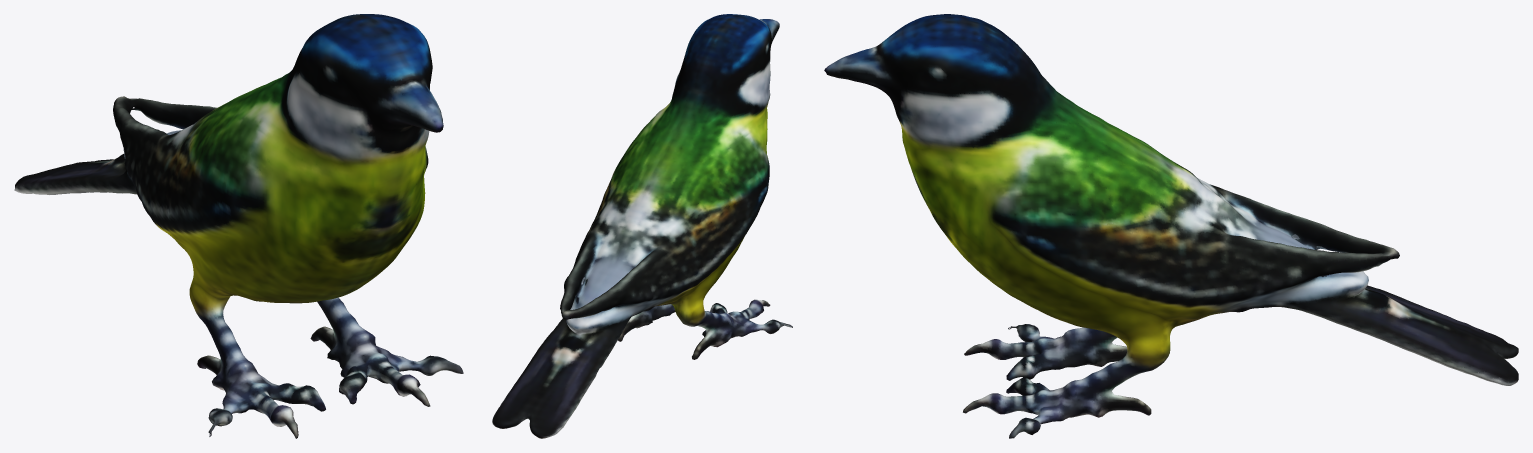
The model's file is asset.glb.
3 views of the same model, side by side, from view 1: azimuth 30°, elevation 25°; view 2: azimuth 150°, elevation 25°; view 3: azimuth 270°, elevation 25° (orthographic). The views are drawn at different scales.
Bounding box in the file's own units: 0.3394 × 0.5259 × 0.8931.
Materials: 1 (1 with a texture image).
